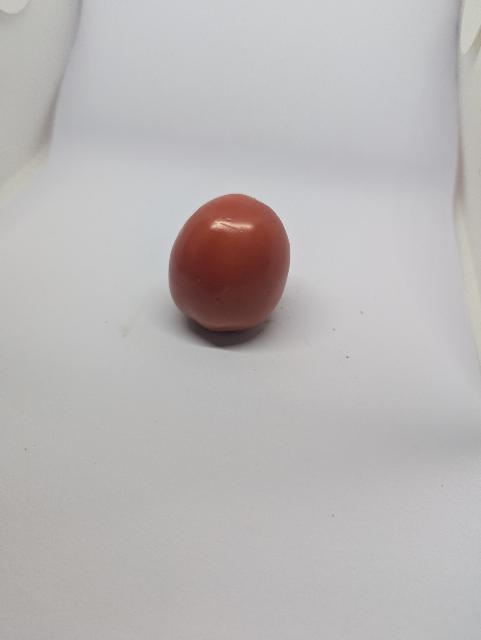red: (155, 186, 308, 347)
